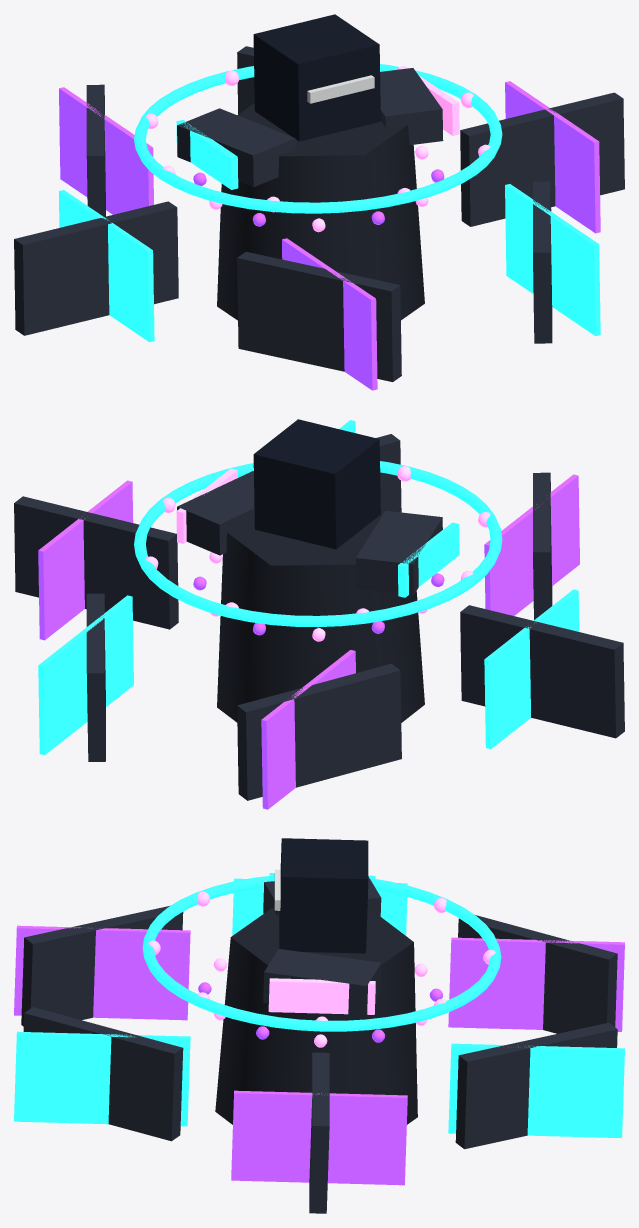
The model's file is boss_shard_avatar.glb.
The picture shows the model from 3 angles, top to bottom: view 1: azimuth 30°, elevation 25°; view 2: azimuth 150°, elevation 25°; view 3: azimuth 270°, elevation 25°; orthographic projection. The views are drawn at different scales.
Size of the model in its own units: 7 by 3.12 by 6.33.
